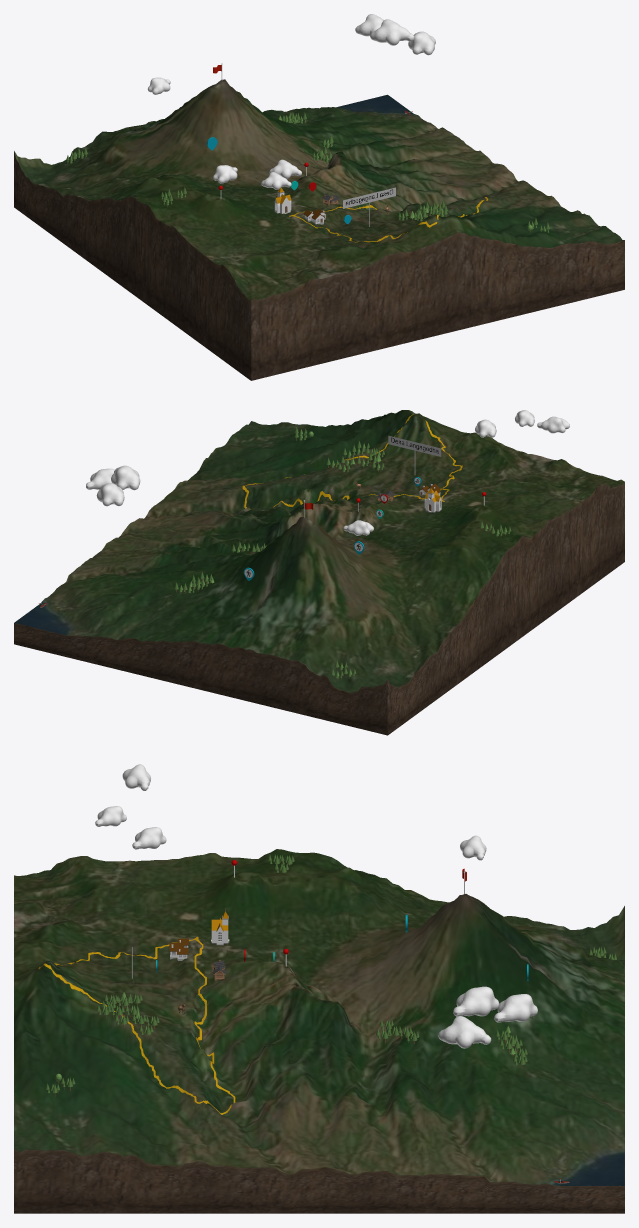
Rendered from 3D-Map.glb.
3 views of the same model, one above another, from view 1: azimuth 30°, elevation 25°; view 2: azimuth 150°, elevation 25°; view 3: azimuth 270°, elevation 25° (orthographic). The views are drawn at different scales.
Parts seen in each view (by area): view 1: mapSurface, mapEdges, pin_id_1738027942628; view 2: mapSurface, mapEdges, mapGPS, pin_id_1738027942628, pin_id_1738027900289, plane; view 3: mapSurface, mapEdges, mapGPS, pin_id_1738027919512, pin_id_1738027942628, pin_id_1738027900289.
Boxes of the visible parts, x1=… form: mapSurface: x1=14, y1=79, x2=624, y2=300; mapEdges: x1=14, y1=151, x2=624, y2=380; pin_id_1738027942628: x1=370, y1=19, x2=414, y2=45; mapSurface: x1=14, y1=410, x2=624, y2=692; mapEdges: x1=14, y1=482, x2=624, y2=735; mapGPS: x1=242, y1=414, x2=462, y2=509; pin_id_1738027942628: x1=111, y1=465, x2=140, y2=490; pin_id_1738027900289: x1=96, y1=483, x2=124, y2=506; plane: x1=388, y1=435, x2=441, y2=456; mapSurface: x1=14, y1=849, x2=624, y2=1185; mapEdges: x1=14, y1=1149, x2=624, y2=1213; mapGPS: x1=38, y1=936, x2=235, y2=1114; pin_id_1738027919512: x1=438, y1=1016, x2=491, y2=1048; pin_id_1738027942628: x1=453, y1=986, x2=499, y2=1016; pin_id_1738027900289: x1=494, y1=994, x2=537, y2=1022.
Bounding box in the file's own units: 91.04 × 40.69 × 100.
211 materials, 4 textured.
